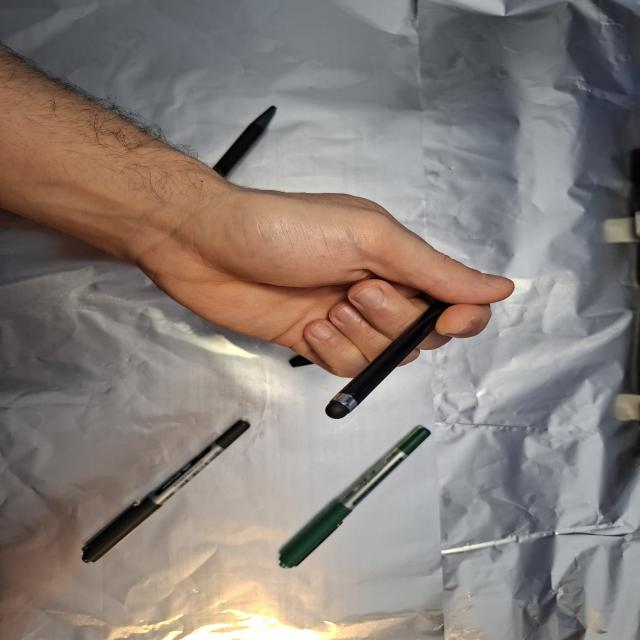glove_off: (128, 173, 516, 382)
